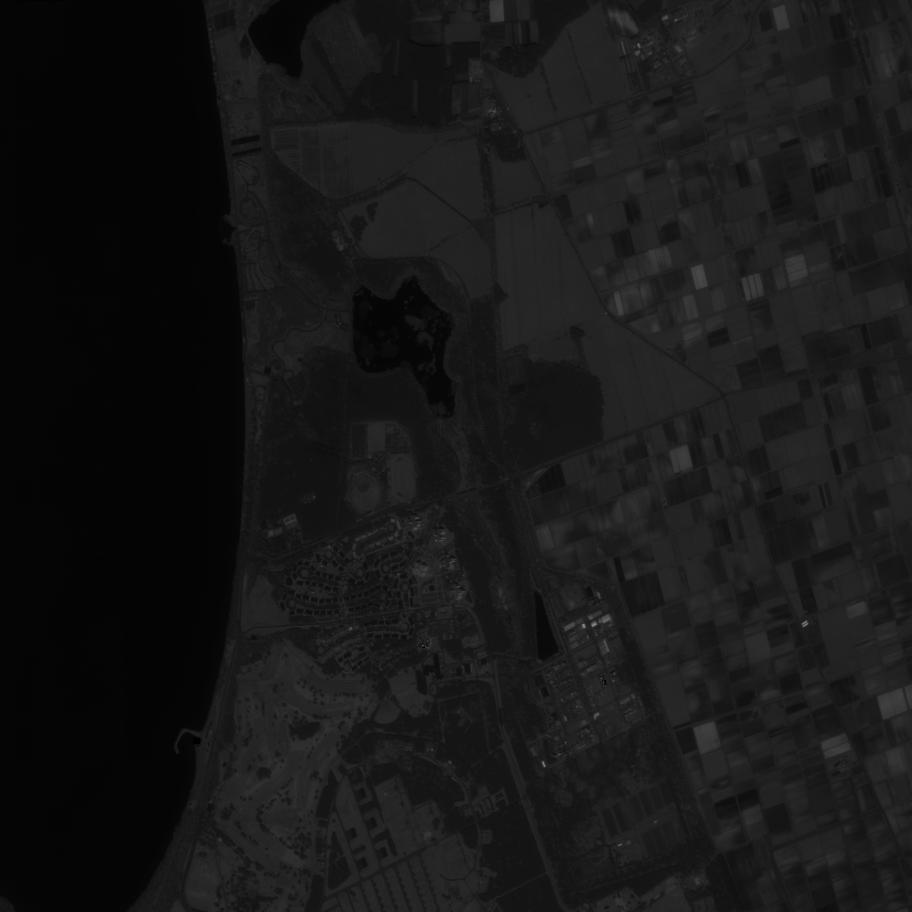ship: (193, 738, 200, 745)
storage-tank: (601, 676, 604, 679), (602, 681, 606, 683), (605, 684, 607, 685), (423, 646, 424, 647)
